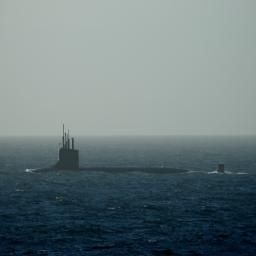submarine: (33, 123, 224, 176)
